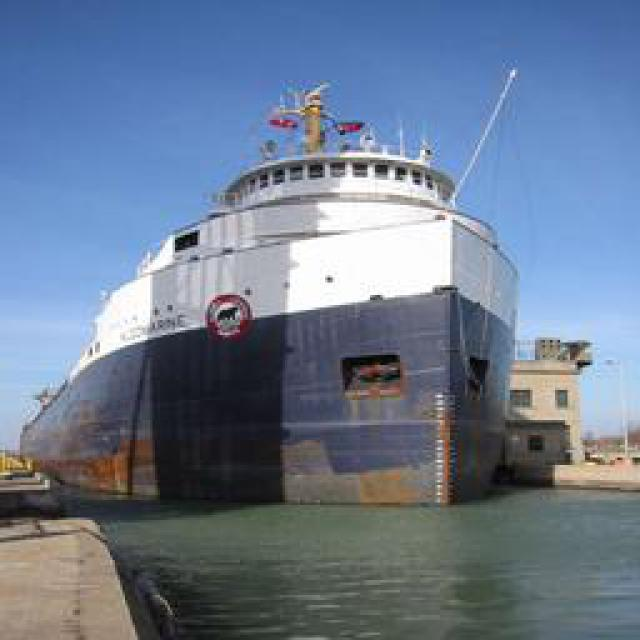Ship: (20, 66, 523, 524)
